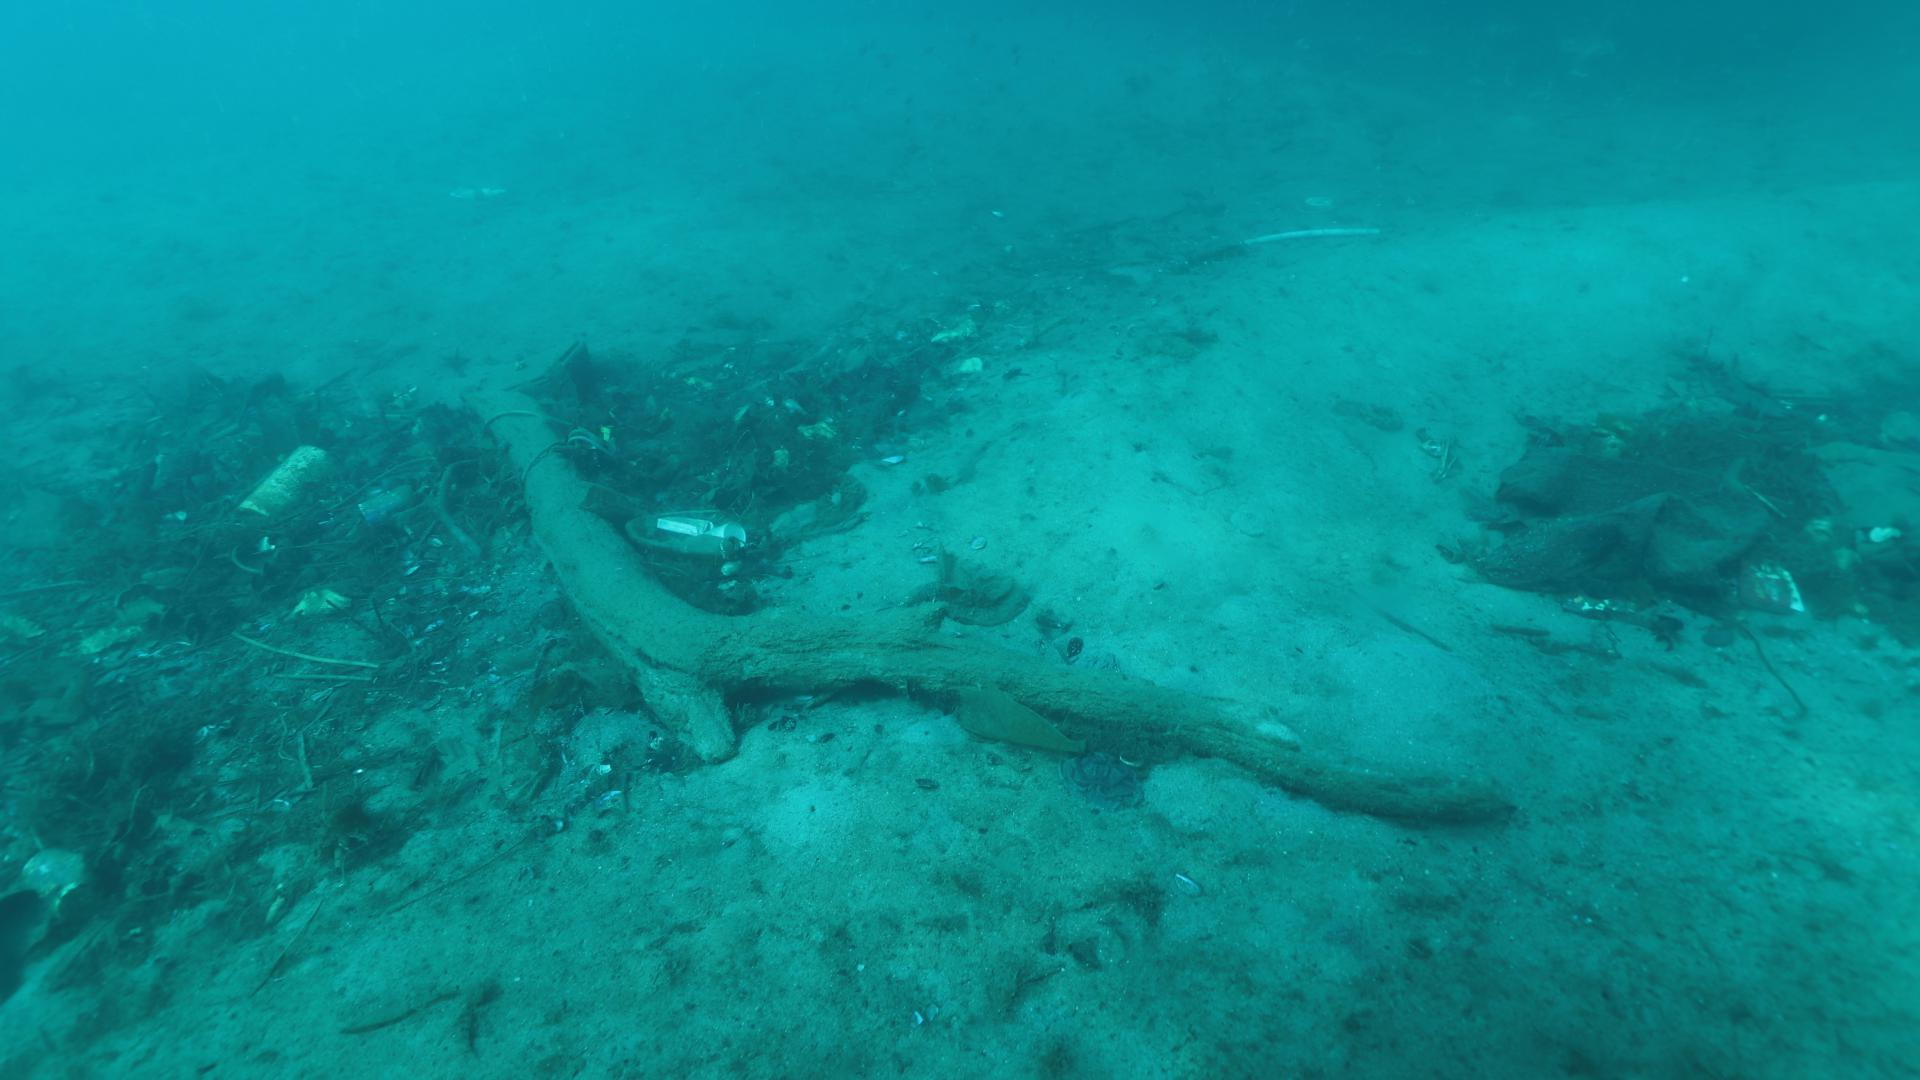wood: (458, 386, 1509, 827)
